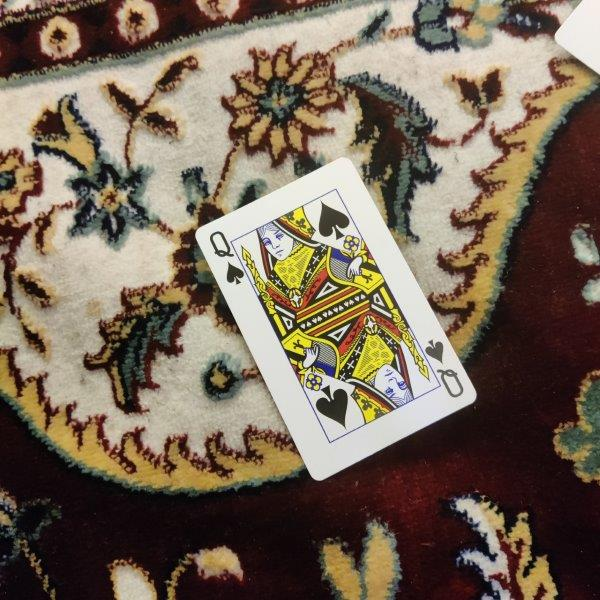Queen of Spades: (194, 158, 479, 482)
